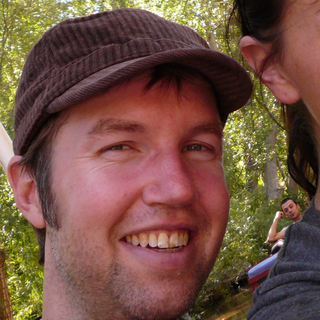eye: (95, 135, 143, 162), (176, 132, 217, 158)
